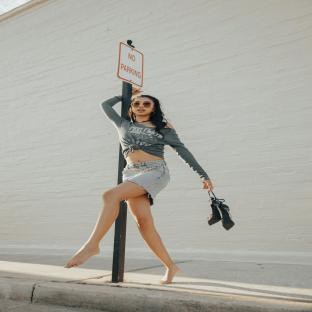Human: (64, 95, 213, 284)
